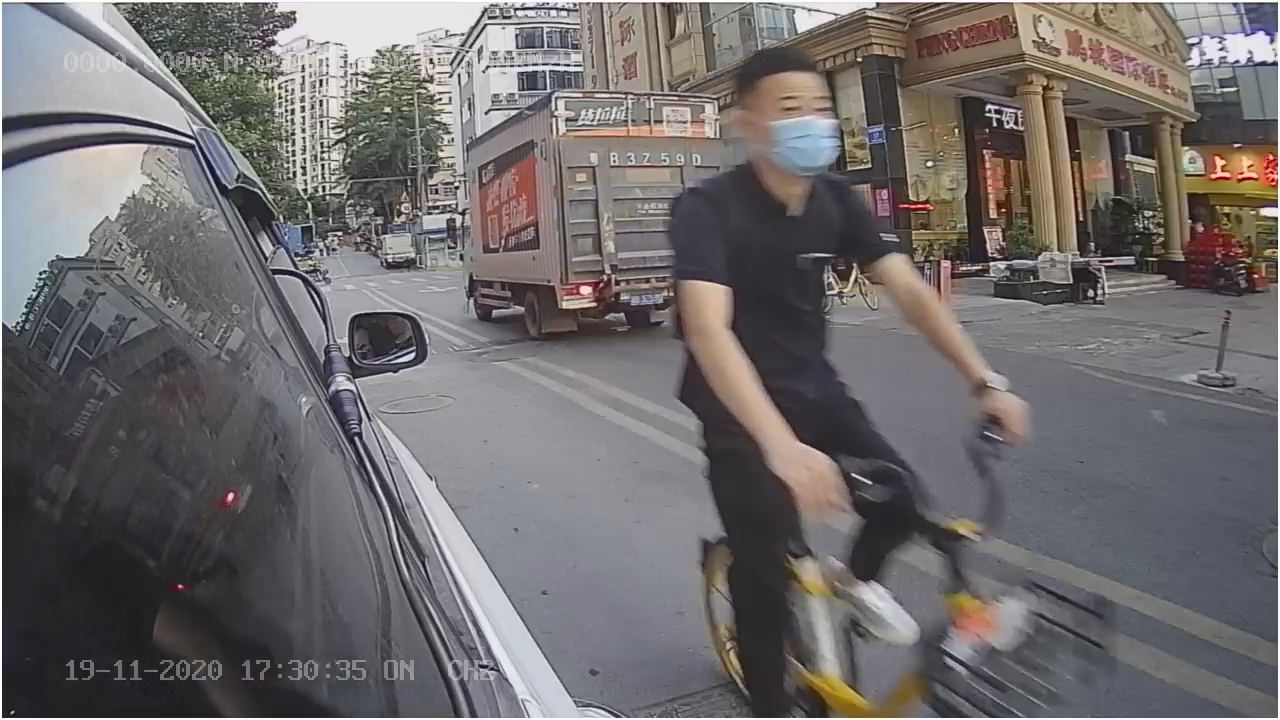person: (661, 51, 915, 450)
